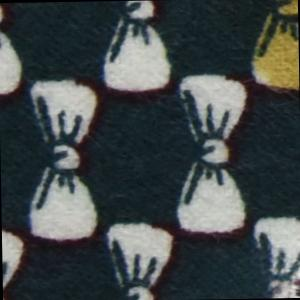Stain: (250, 1, 300, 97)
